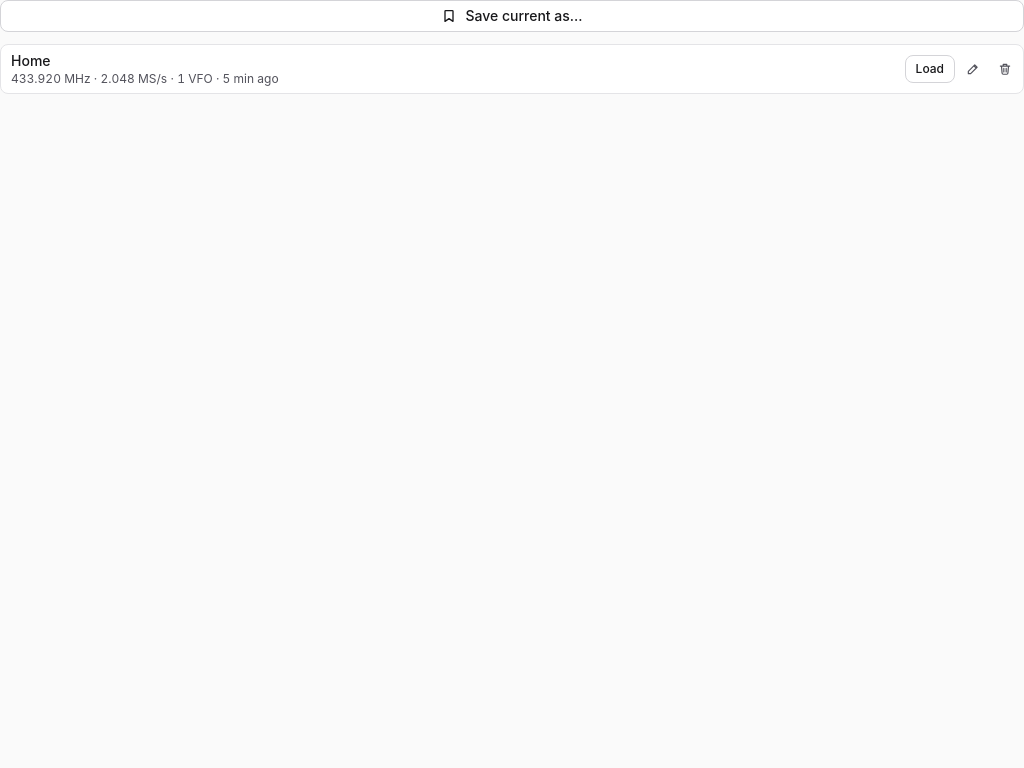
ProfilesPanel › deletes only after confirmation
This screenshot has width=1024, height=768.
Check: the text "Home" is shown, box [11, 51, 50, 71]
Click the button named "Delete profile Home" at {"x": 1005, "y": 69}, box [991, 55, 1019, 83]
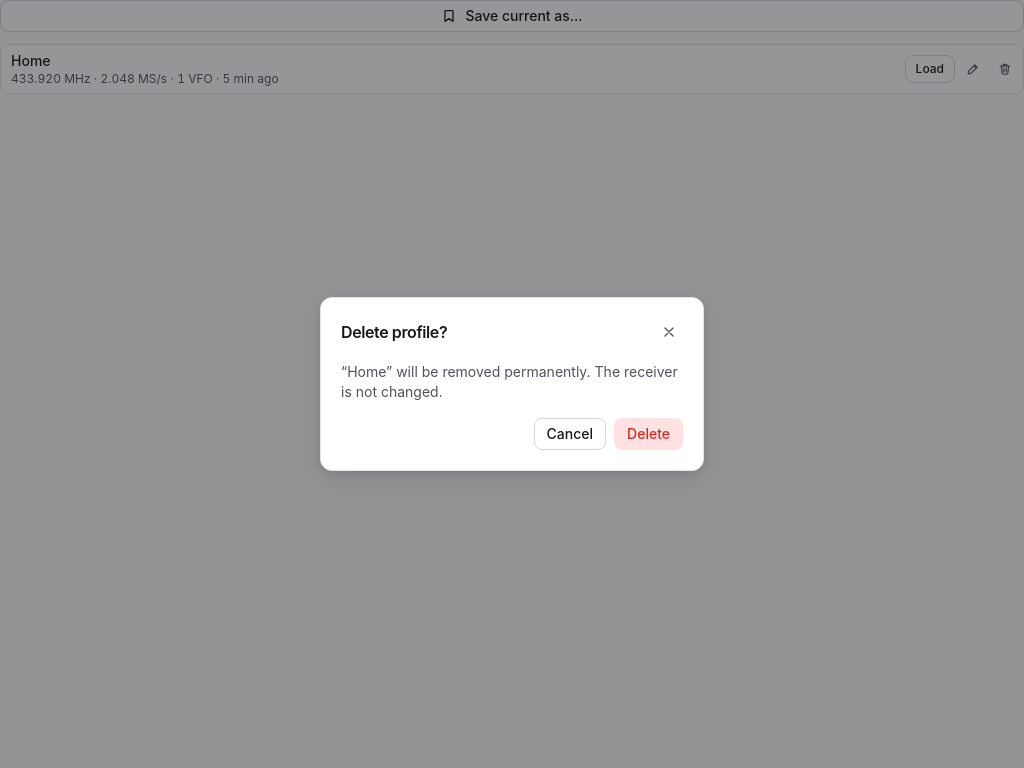
Click the button "Cancel" at {"x": 570, "y": 434}, box [534, 418, 606, 450]
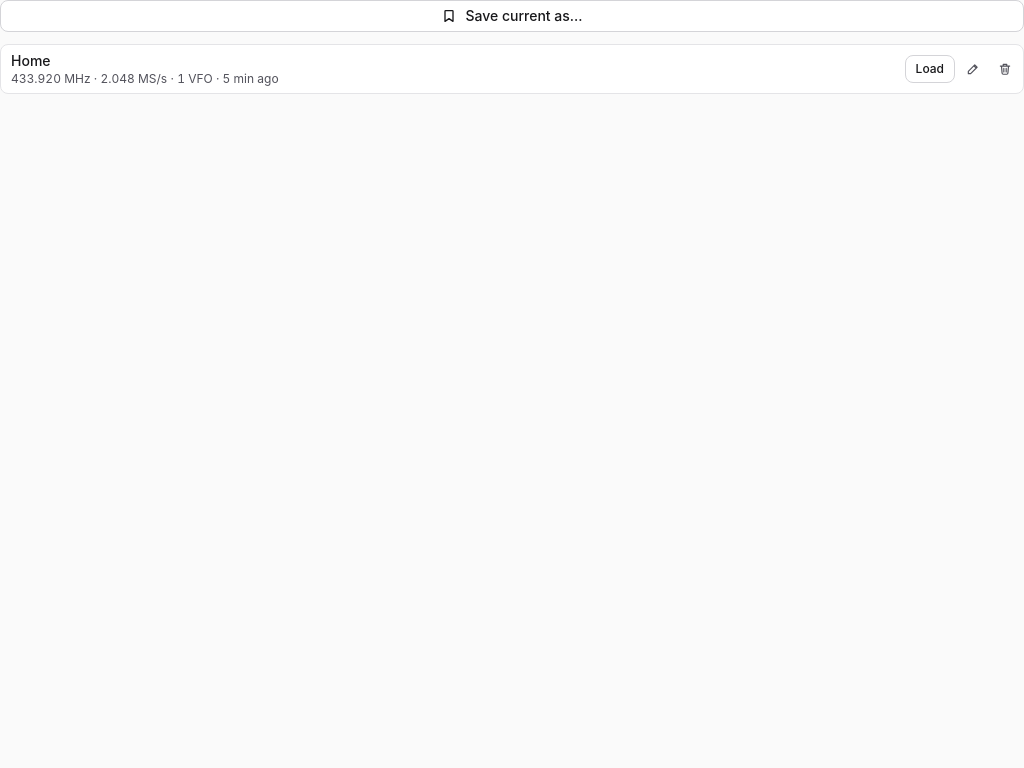
Click the button named "Delete profile Home" at {"x": 1005, "y": 69}, box [991, 55, 1019, 83]
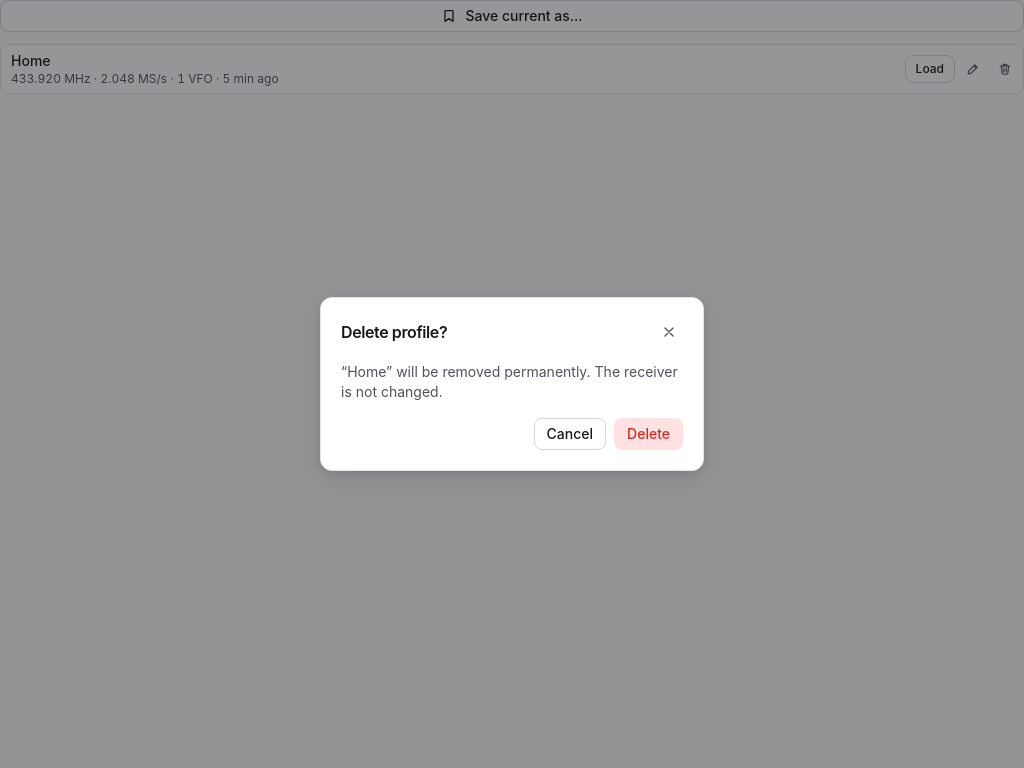
Click the button "Delete" at {"x": 649, "y": 434}, box [614, 418, 683, 450]
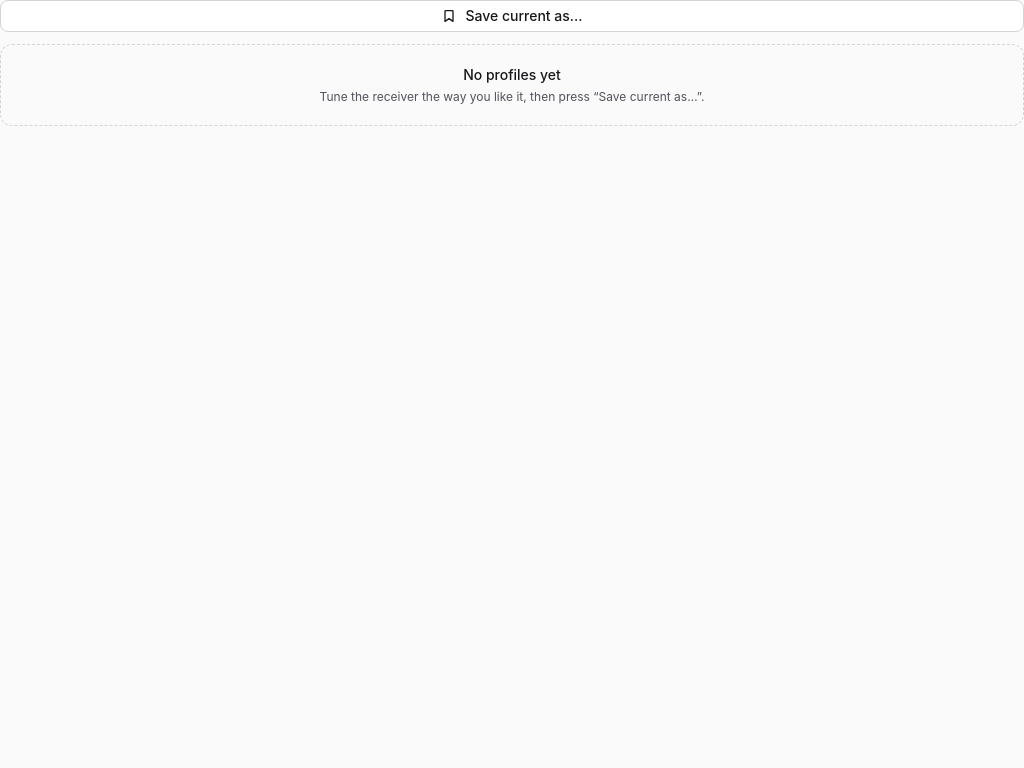
Check: the text "No profiles yet" is shown, box [463, 65, 561, 85]
